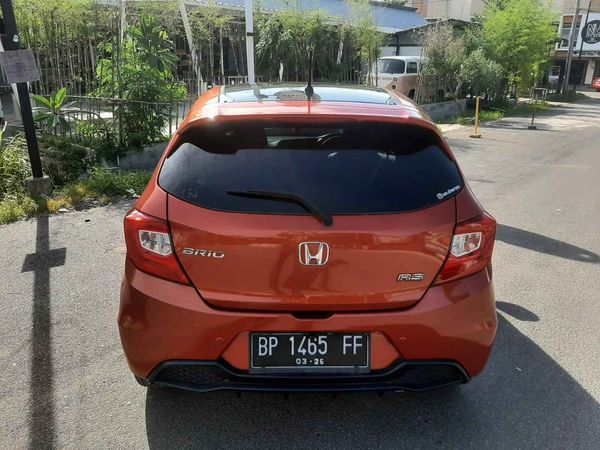plate: (248, 326, 369, 376)
